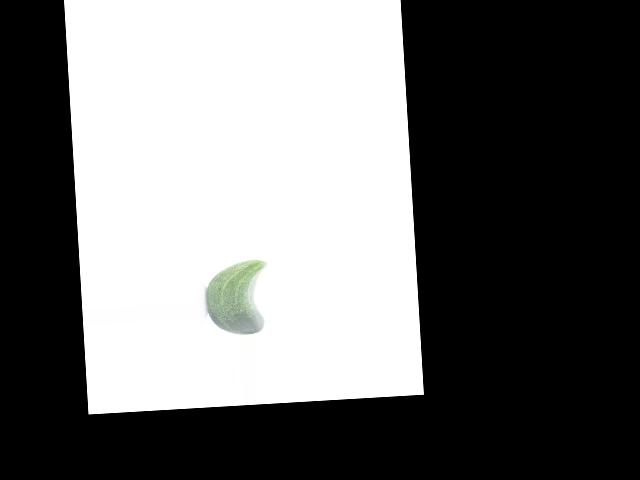cucumber: (203, 258, 270, 336)
